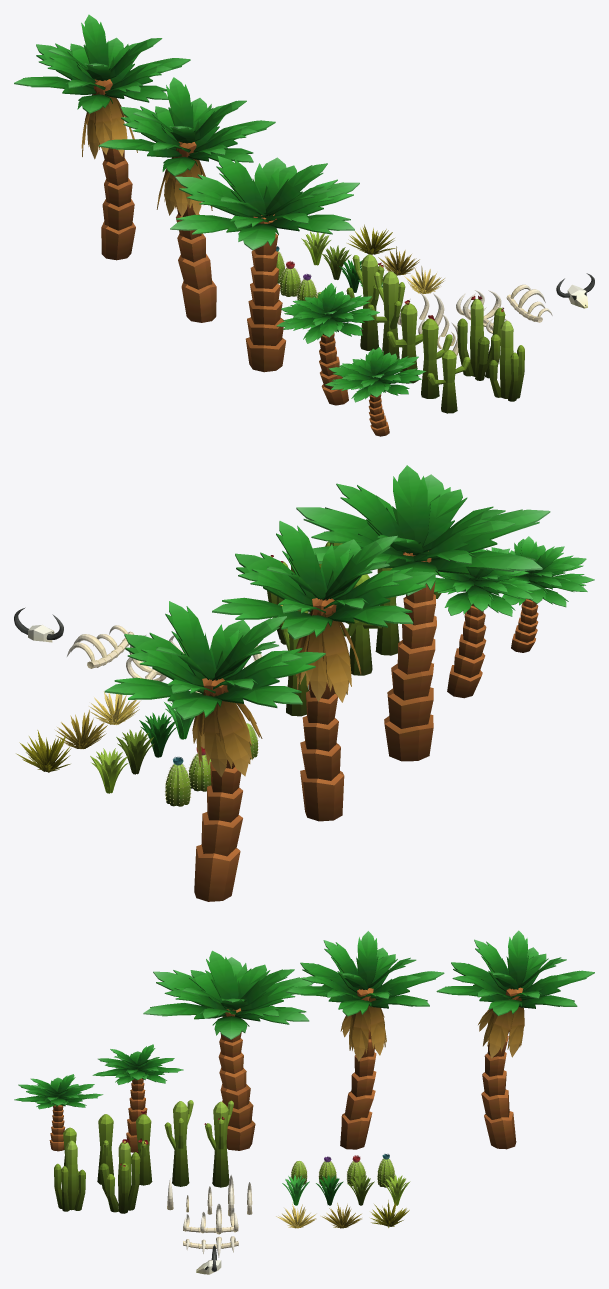
The model's file is packdesert3.fbx.
3 renders of one model, top to bottom at view 1: azimuth 30°, elevation 25°; view 2: azimuth 150°, elevation 25°; view 3: azimuth 270°, elevation 25°, orthographic. The views are drawn at different scales.
Visible parts, largest first — view 1: Palmera.002, Palmera.001, Palmera, Palmera.004, Palmera.003, Cactus, Cactus.006, Cactus.005, Cactus.007, Cactus.004, Cactus.003, Cactus.001 (+6 smaller); view 2: Palmera.001, Palmera.002, Palmera, Palmera.004, Palmera.003, Cactus.003, Arbusto-P.001, Huesos-C.001, Cactus-O, Arbusto-P.002, Arbusto-P.003, Arbustos.001 (+6 smaller); view 3: Palmera.002, Palmera, Palmera.001, Palmera.004, Palmera.003, Cactus, Cactus.006, Cactus.007, Cactus.005, Cactus.003, Cactus.004, Huesos-C (+4 smaller).
Boxes of the visible parts, x1=… form: Palmera.002: x1=170, y1=156, x2=359, y2=372; Palmera.001: x1=14, y1=14, x2=190, y2=260; Palmera: x1=98, y1=77, x2=275, y2=322; Palmera.004: x1=276, y1=283, x2=379, y2=405; Palmera.003: x1=325, y1=347, x2=426, y2=436; Cactus: x1=457, y1=295, x2=505, y2=380; Cactus.006: x1=489, y1=320, x2=524, y2=401; Cactus.005: x1=367, y1=271, x2=405, y2=359; Cactus.007: x1=346, y1=254, x2=384, y2=350; Cactus.004: x1=421, y1=318, x2=452, y2=398; Cactus.003: x1=386, y1=300, x2=434, y2=383; Cactus.001: x1=427, y1=350, x2=470, y2=413; Palmera.001: x1=104, y1=601, x2=325, y2=901; Palmera.002: x1=296, y1=465, x2=550, y2=761; Palmera: x1=212, y1=521, x2=436, y2=821; Palmera.004: x1=434, y1=548, x2=541, y2=698; Palmera.003: x1=482, y1=536, x2=594, y2=652; Cactus.003: x1=346, y1=574, x2=382, y2=675; Arbusto-P.001: x1=16, y1=730, x2=71, y2=772; Huesos-C.001: x1=67, y1=625, x2=134, y2=668; Cactus-O: x1=165, y1=757, x2=191, y2=806; Arbusto-P.002: x1=55, y1=709, x2=107, y2=749; Arbusto-P.003: x1=89, y1=691, x2=140, y2=724; Arbustos.001: x1=116, y1=729, x2=154, y2=774; Palmera.002: x1=143, y1=950, x2=313, y2=1150; Palmera: x1=286, y1=931, x2=444, y2=1149; Palmera.001: x1=436, y1=930, x2=594, y2=1149; Palmera.004: x1=92, y1=1044, x2=183, y2=1152; Palmera.003: x1=14, y1=1074, x2=103, y2=1151; Cactus: x1=99, y1=1138, x2=140, y2=1213; Cactus.006: x1=54, y1=1140, x2=85, y2=1211; Cactus.007: x1=204, y1=1100, x2=233, y2=1187; Cactus.005: x1=164, y1=1100, x2=193, y2=1186; Cactus.003: x1=136, y1=1111, x2=152, y2=1185; Cactus.004: x1=97, y1=1114, x2=113, y2=1184; Huesos-C: x1=183, y1=1204, x2=238, y2=1234.
Bounding box in the file's own units: 2037 × 999 × 2782.
